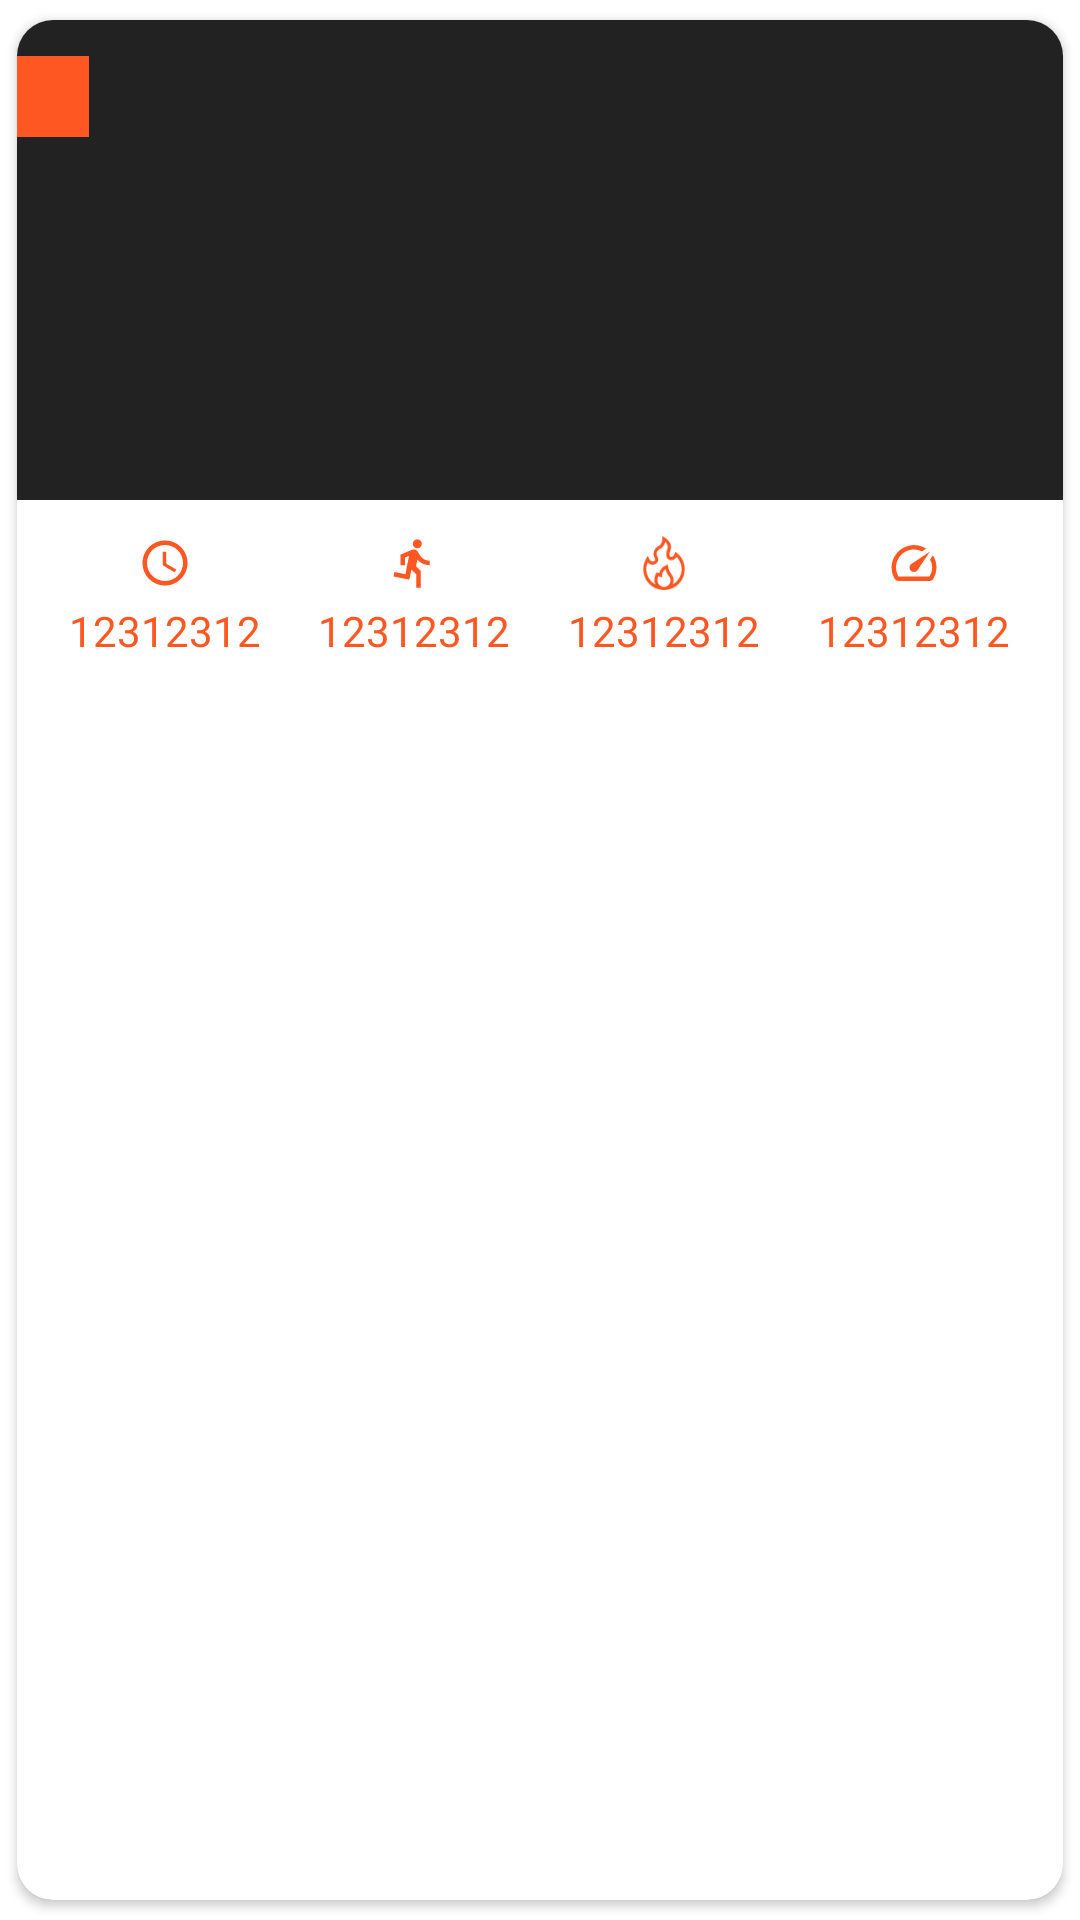

Screen size 1080 × 1920. Icon name, then its center in pixels as [x,y]:
burn: [664,563]
run: [411,563]
run time: [165,563]
speed: [914,563]
